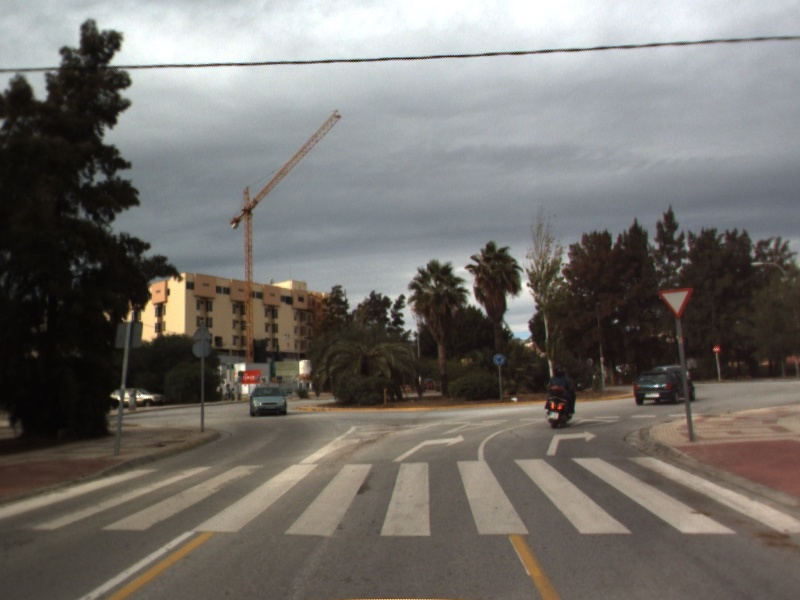RIGHT: (390, 432, 467, 464), (544, 428, 599, 458)
